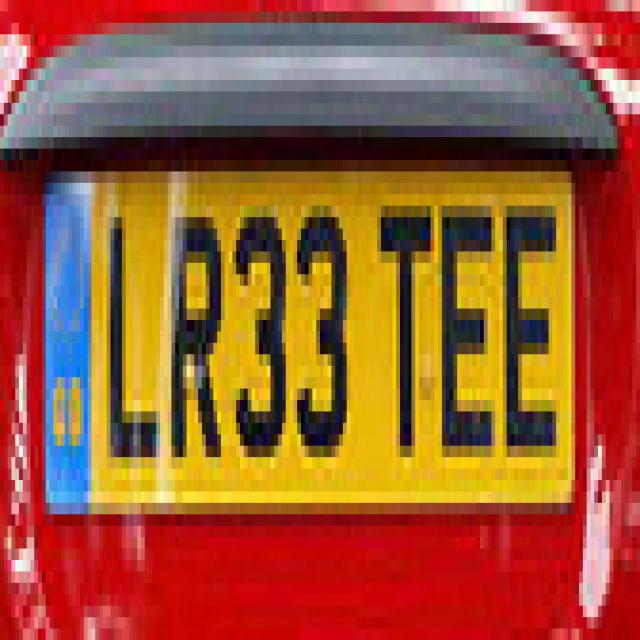3: (287, 183, 352, 465), (232, 185, 290, 473)
E: (499, 166, 564, 468), (437, 182, 497, 474)
L: (104, 198, 162, 470)
R: (166, 189, 224, 480)
T: (374, 181, 436, 476)
